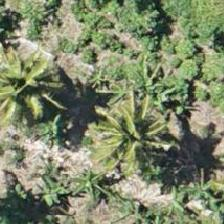coconut_tree: (82, 92, 172, 182), (0, 40, 69, 130)
